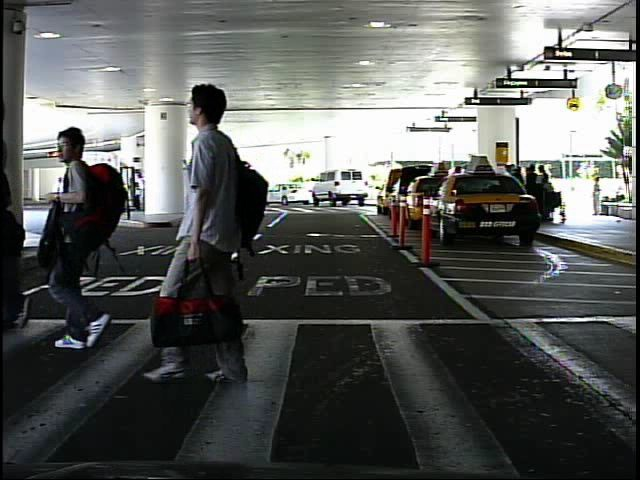person: (160, 78, 276, 395), (37, 118, 131, 355), (51, 171, 70, 220), (588, 173, 607, 219)
